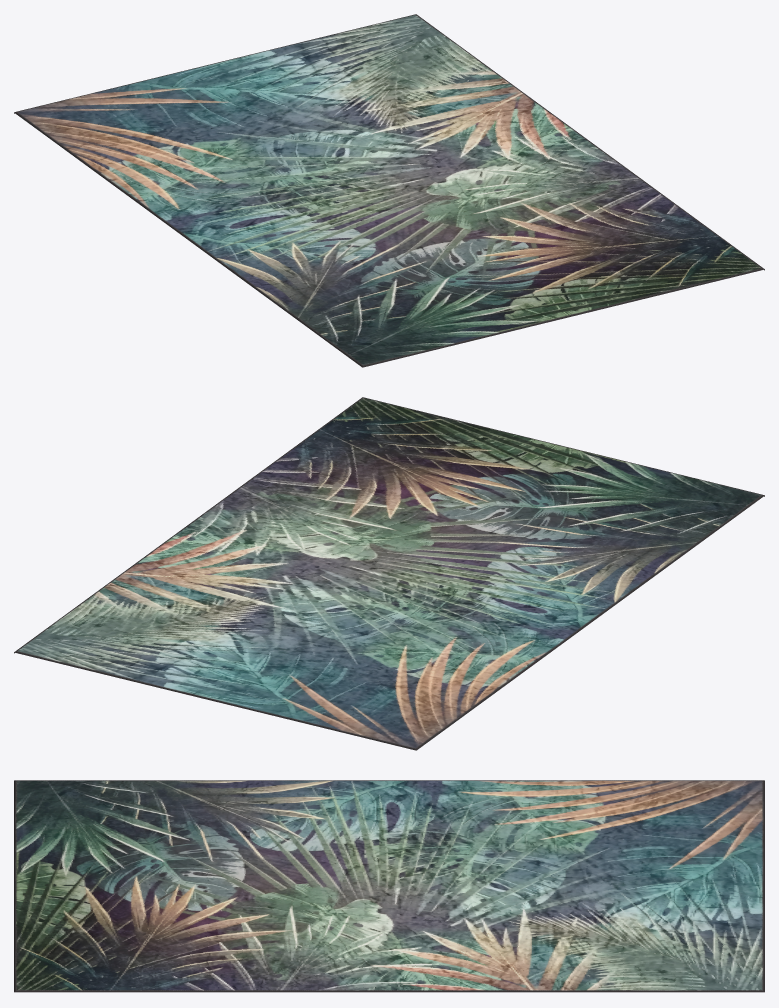
File: dazzle-jz826a.glb
3 views of the same model, one above another, from view 1: azimuth 30°, elevation 25°; view 2: azimuth 150°, elevation 25°; view 3: azimuth 270°, elevation 25° (orthographic). The views are drawn at different scales.
Visible parts, largest first — view 1: rug; view 2: rug; view 3: rug.
Part boxes in pixels (x1,y1,x2,y2): rug: [14, 14, 764, 367]; rug: [14, 397, 764, 750]; rug: [14, 780, 764, 992].
Size of the model in its own units: 1 by 0.00588 by 1.5.
Materials: 3 (3 with a texture image).
